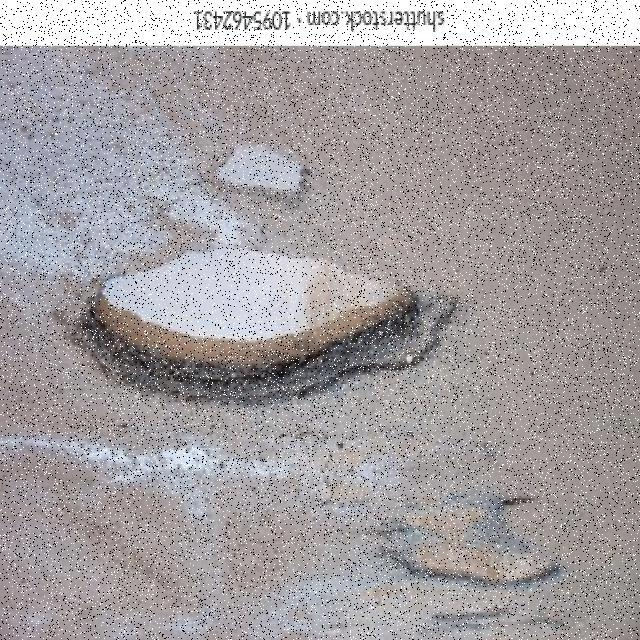Pothole: (55, 186, 456, 405), (365, 496, 559, 588), (209, 142, 303, 198)
